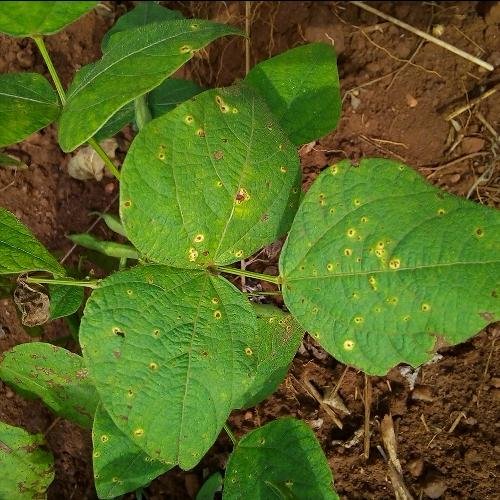hawar: (281, 153, 499, 374), (80, 261, 259, 471), (120, 81, 304, 269)
